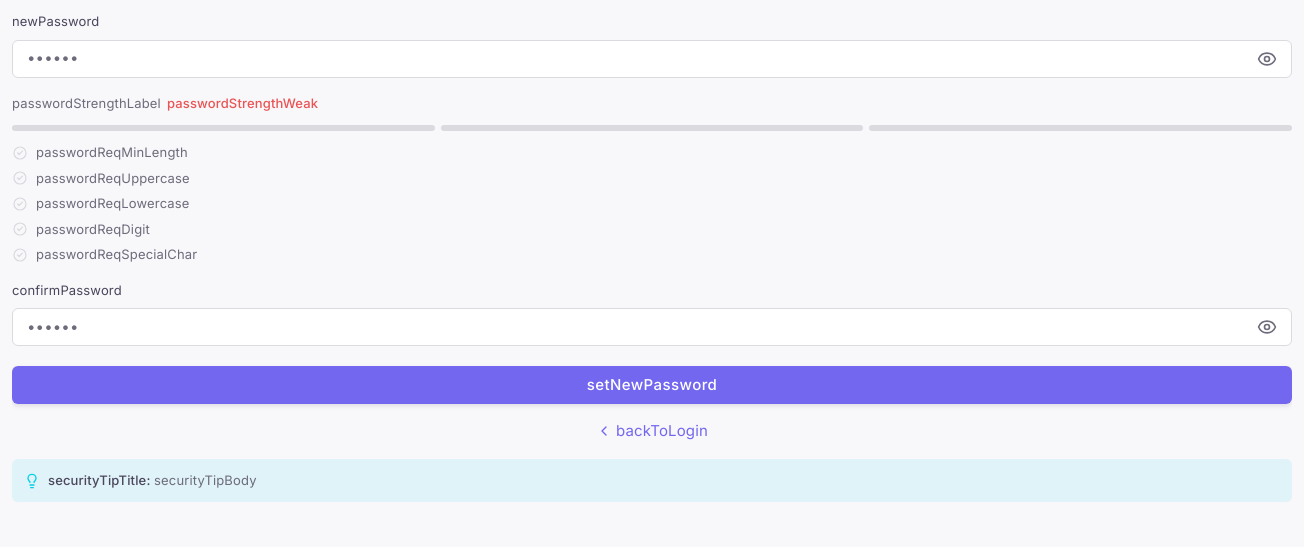
Scenario: ResetPasswordForm › does not show the confirm-match message until both passwords match
Expected: the text "passwordConfirmMatch" is not shown
Type "Abcdefg1!" into the password field labelled "newPassword" at (638, 59), box [27,47,1249,70]
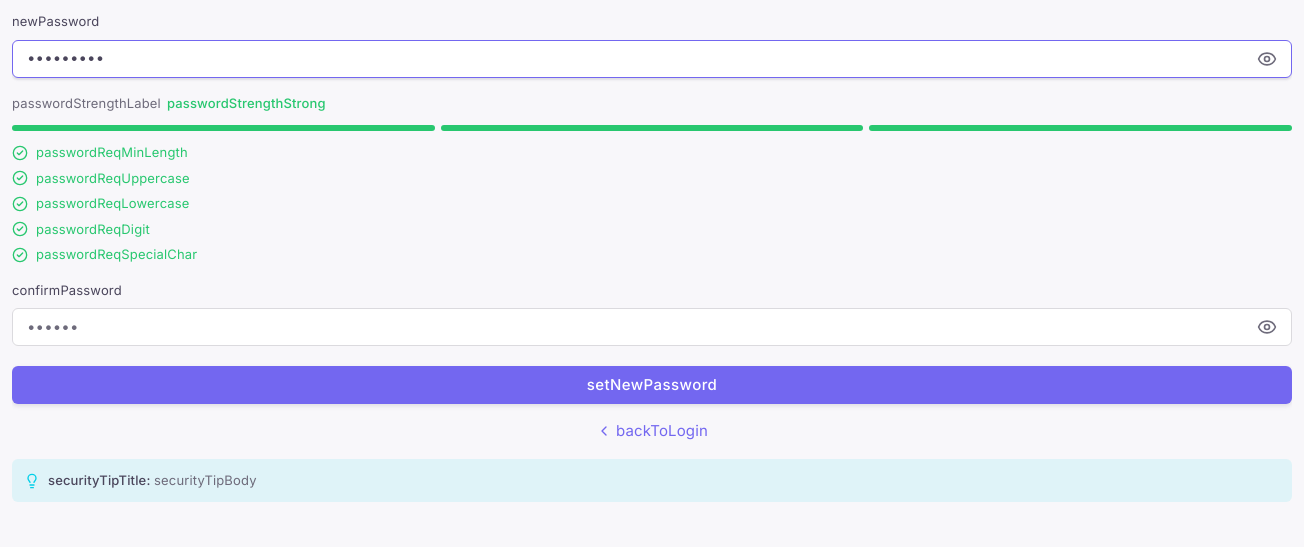
Expected: the text "passwordConfirmMatch" is not shown
Type "Abcdefg1!" into the password field labelled "confirmPassword" at (638, 327), box [27,316,1249,338]
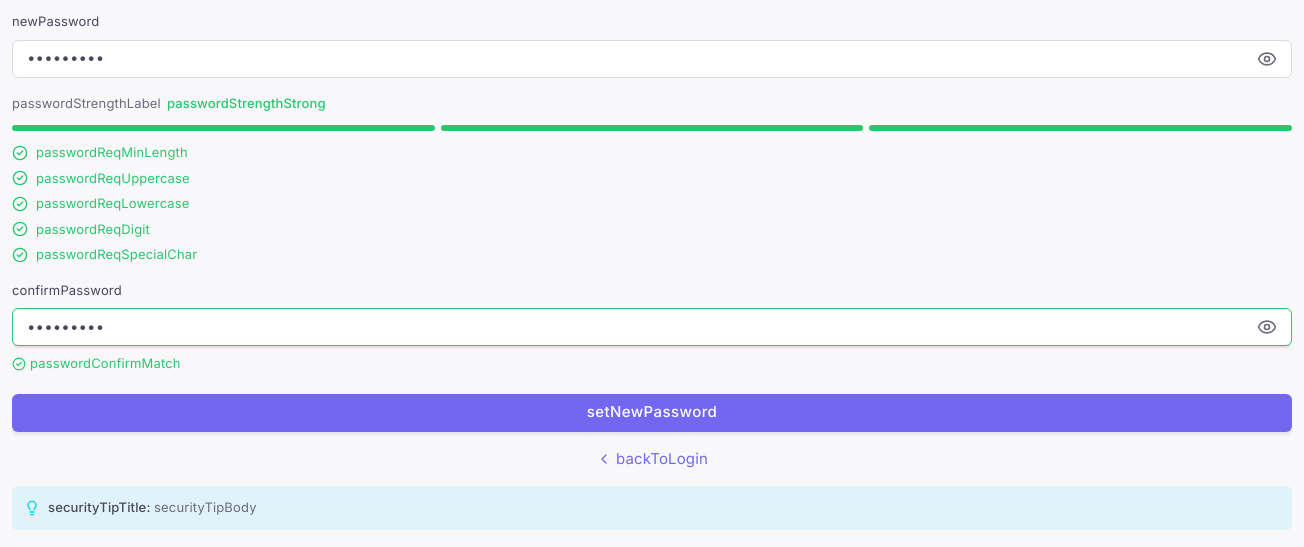
Result: the text "passwordConfirmMatch" is shown at [12,355,181,371]
